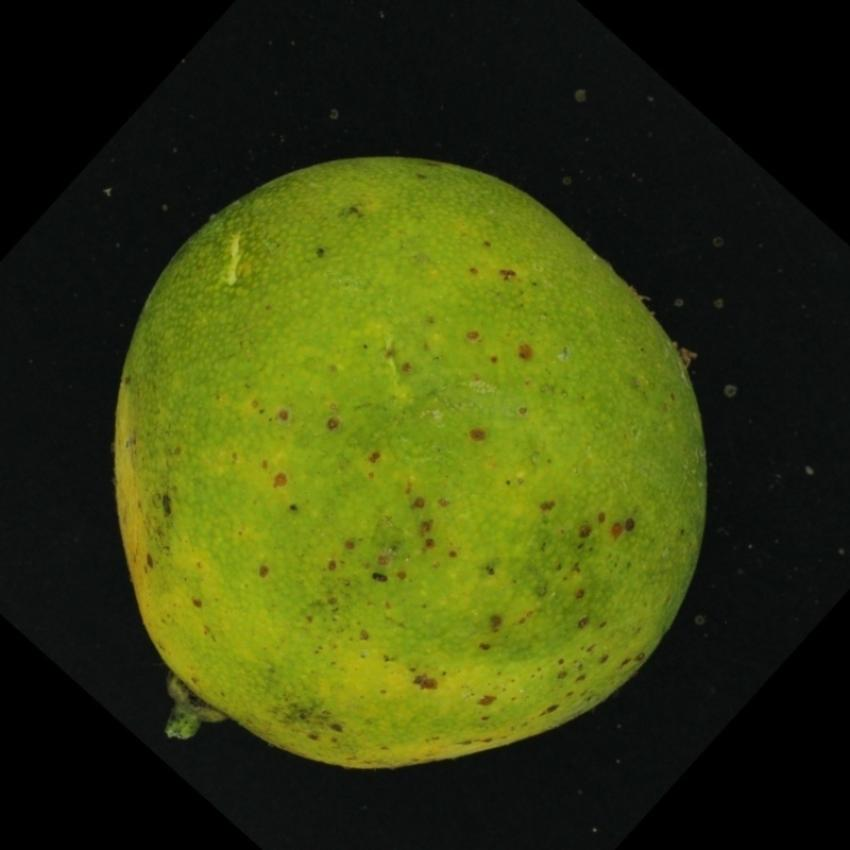Mal estado: (68, 136, 735, 778)
